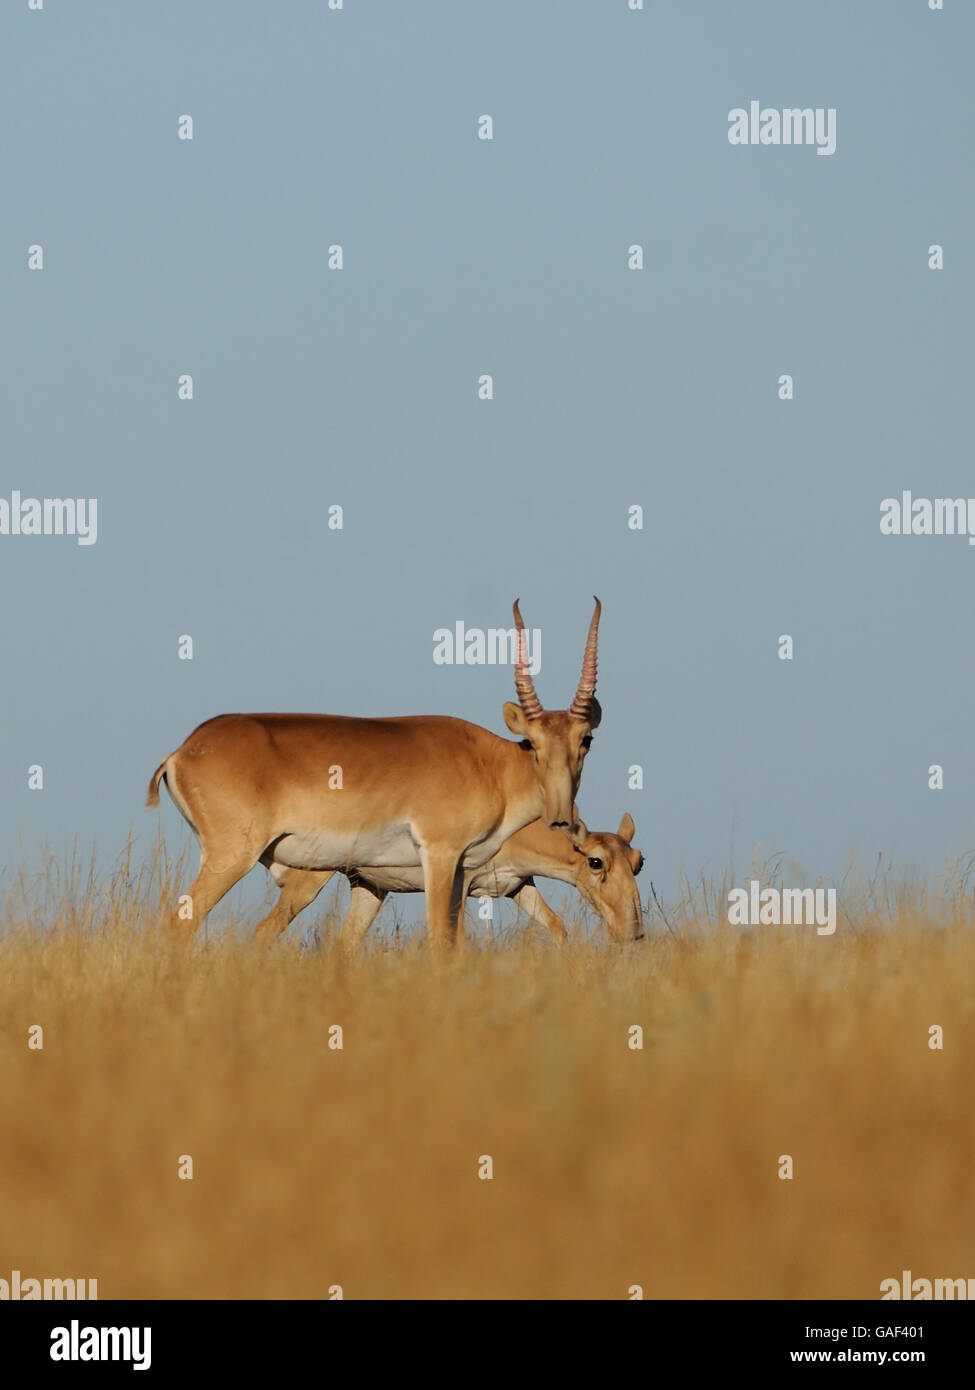saiga: (138, 589, 606, 959), (217, 767, 658, 970)
